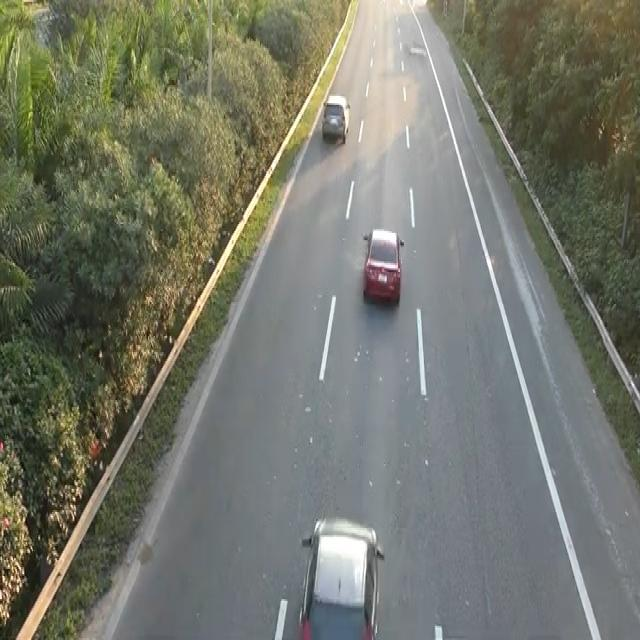bus: (295, 512, 385, 636), (360, 224, 405, 306), (320, 91, 350, 144)
